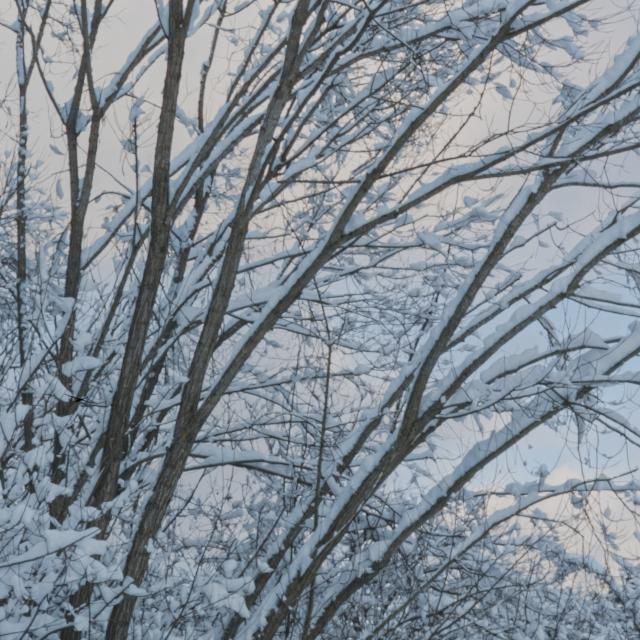Airaplan: (64, 394, 96, 404)
